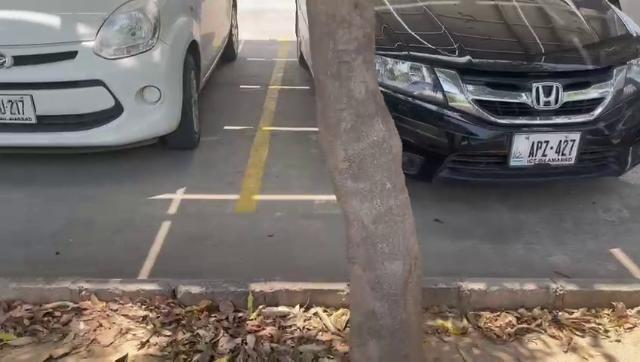plate: (509, 134, 578, 166)
